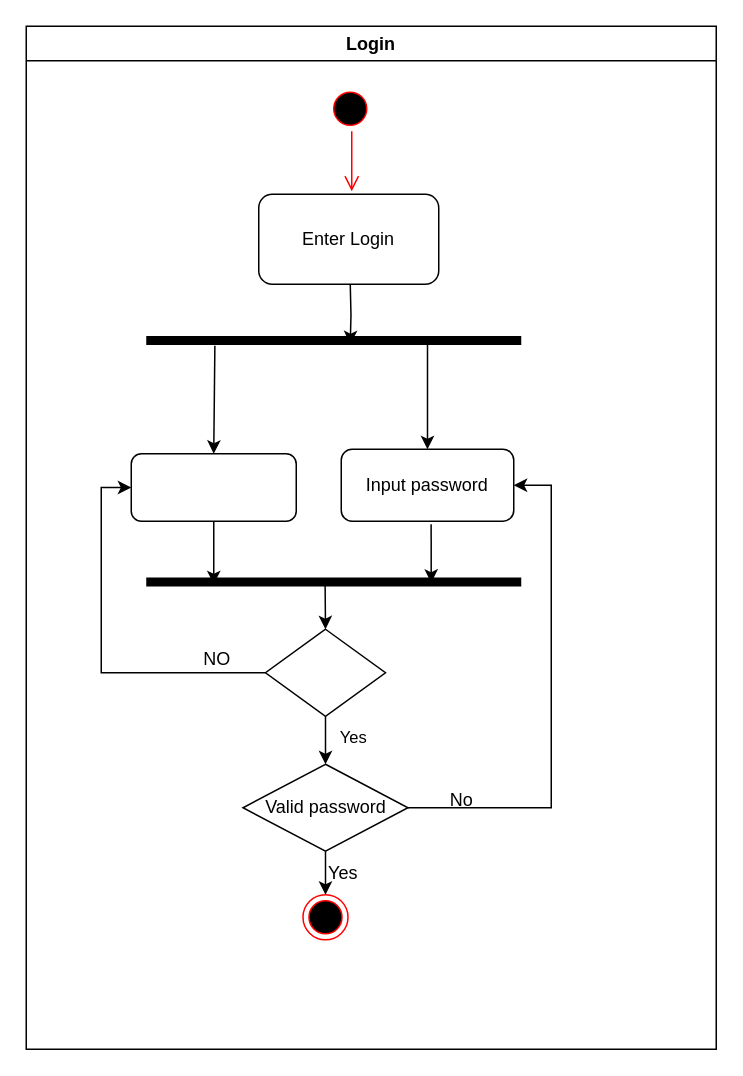
Some shapes in this 743 by 1076 pixel diagram are drawn without their labels. Here are the shapes that lost their labels. From the top down, the centre of each, then its label:
At [213,486]: "Input Email".
At [325,672]: "Valid Email".
